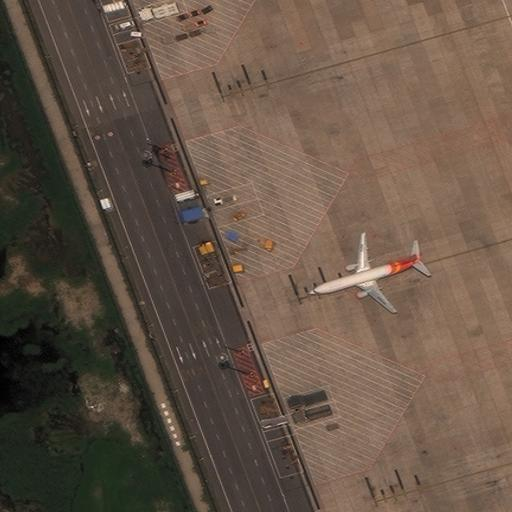Medium Civil Transport: (310, 234, 418, 312)
